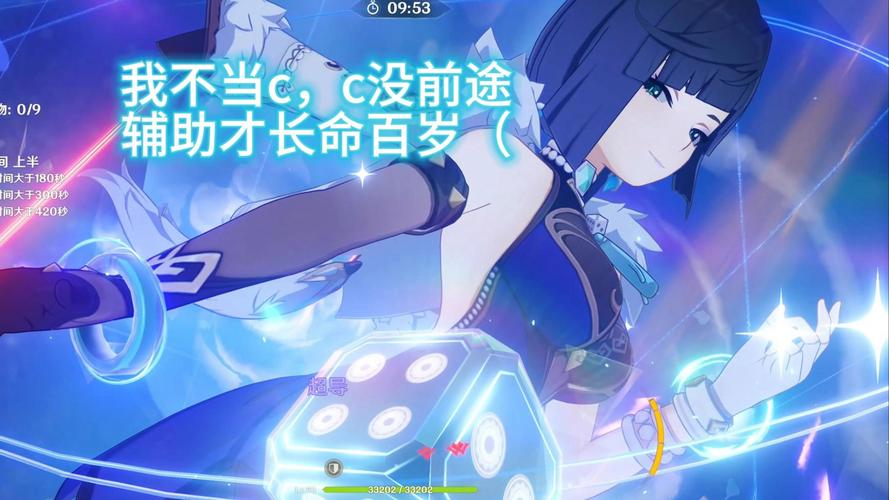夜兰: (1, 5, 844, 500)
